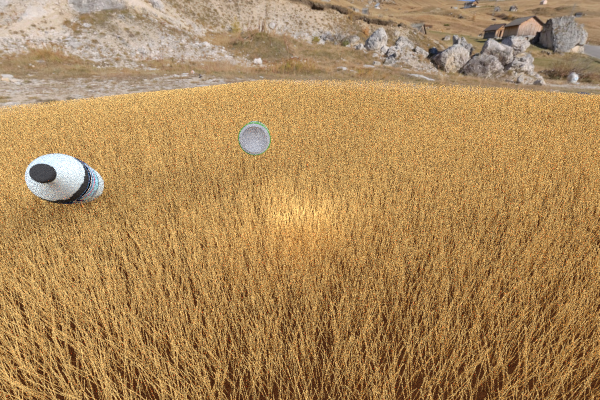Plastic Bottle: (376, 151, 479, 197), (24, 153, 103, 204), (238, 120, 270, 155)
